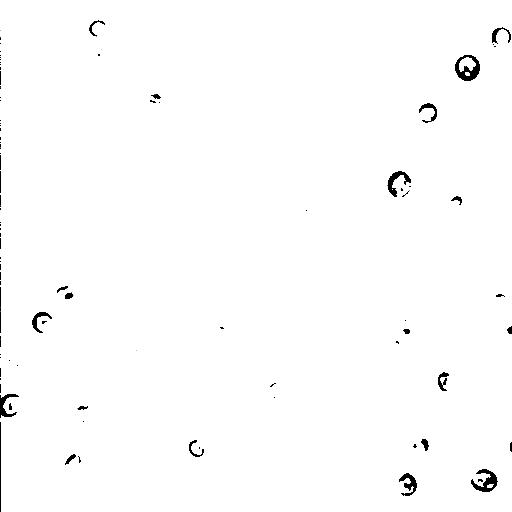micro-algae: (95, 42, 149, 98), (17, 253, 70, 303), (295, 0, 341, 41), (147, 179, 188, 220), (379, 17, 417, 54), (48, 275, 88, 308), (391, 319, 426, 354), (95, 432, 127, 465), (263, 377, 296, 407), (117, 335, 149, 364), (454, 54, 481, 82), (282, 205, 310, 232), (470, 467, 499, 493), (387, 171, 414, 198), (89, 39, 115, 65), (3, 357, 27, 385), (489, 25, 512, 51), (29, 311, 53, 335), (395, 471, 418, 496), (68, 403, 93, 425), (2, 392, 23, 418), (63, 453, 84, 476), (495, 315, 511, 343), (436, 371, 457, 391), (55, 282, 77, 301), (486, 291, 509, 309), (410, 433, 429, 454), (88, 19, 108, 38), (418, 103, 437, 123), (188, 438, 207, 458), (449, 196, 463, 210)
